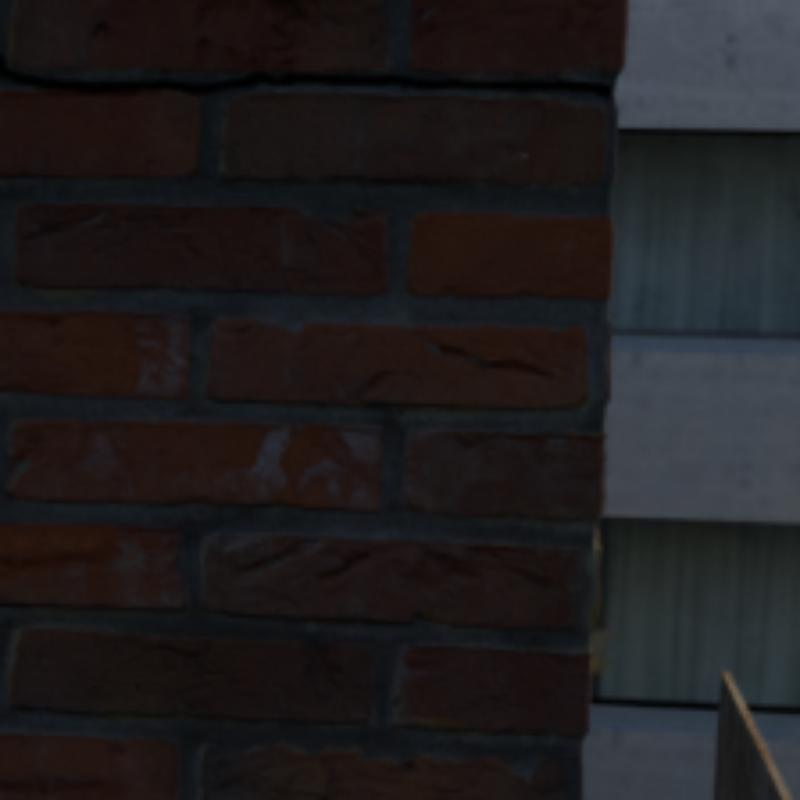crack: (0, 54, 611, 96)
